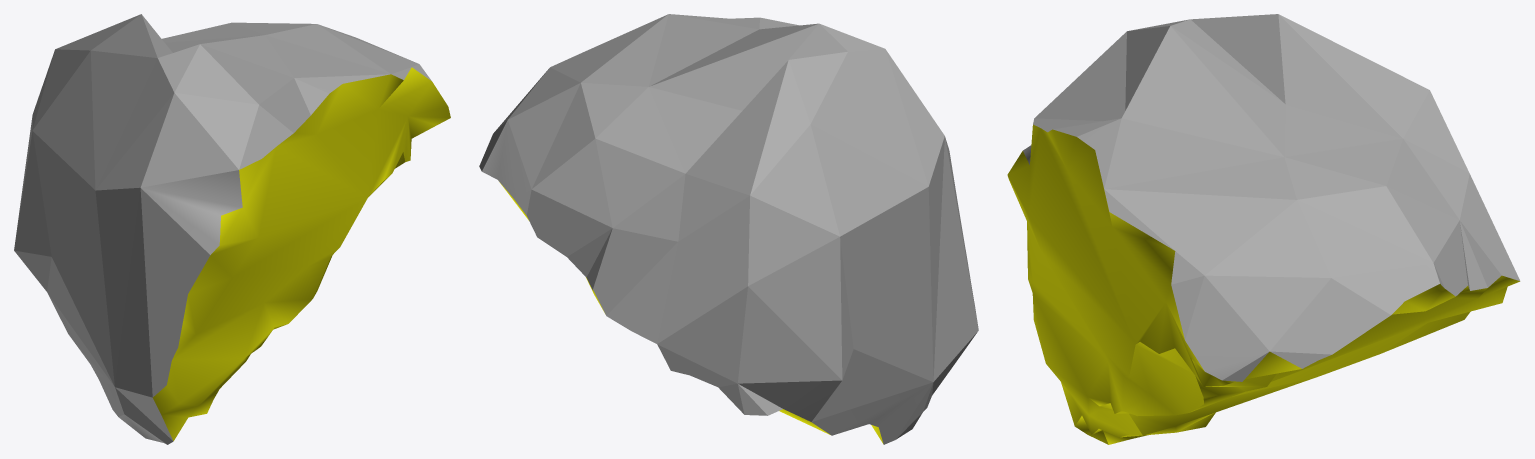
Rendered from rock_shard4.fbx.
3 views of the same model, side by side, from view 1: azimuth 30°, elevation 25°; view 2: azimuth 150°, elevation 25°; view 3: azimuth 270°, elevation 25° (orthographic). The views are drawn at different scales.
Visible parts, largest first — view 1: rock_shard4; view 2: rock_shard4; view 3: rock_shard4.
Boxes of the visible parts, box(x1,y1,x2,y2) form: rock_shard4: box(14, 14, 450, 444); rock_shard4: box(479, 14, 978, 444); rock_shard4: box(1007, 14, 1520, 444).
Size of the model in its own units: 40.83 by 38.85 by 39.4.
